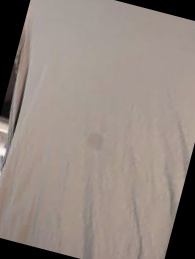oil: (78, 120, 117, 158)
